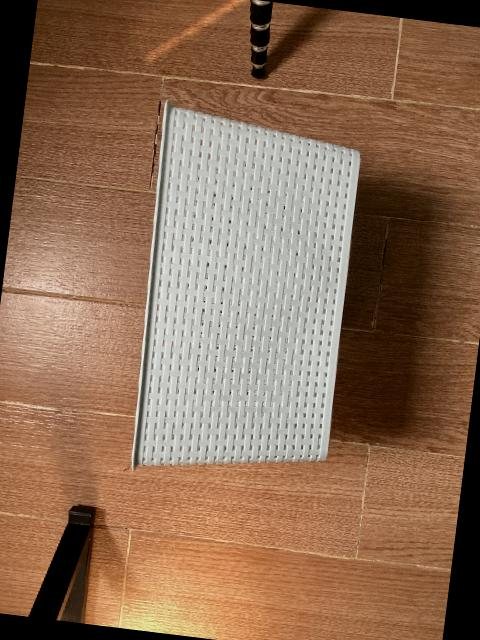cart: (131, 100, 362, 471)
